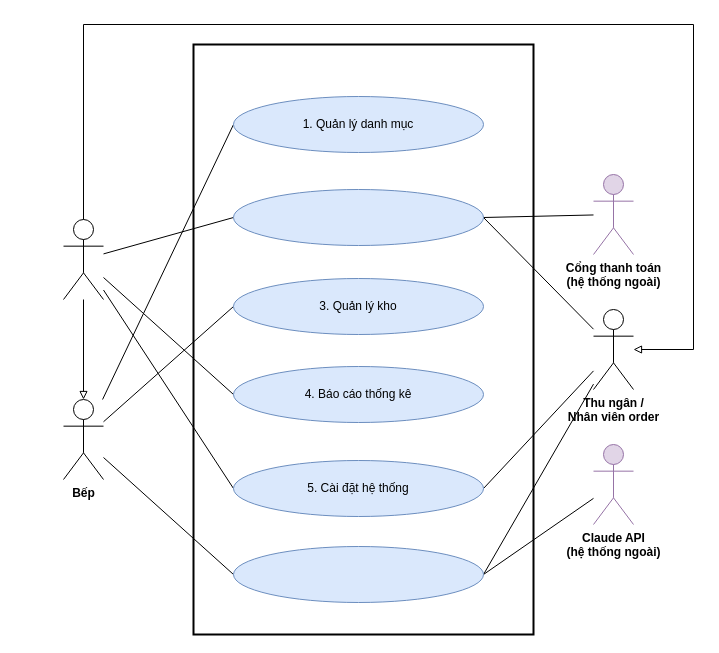
Some shapes in this 719 by 653 pixel diagram are drawn without their labels. Each missing label, with the box of its shape:
2. Quản lý bán hàng: (232, 188, 484, 246)
6. AI Assistant: (232, 546, 484, 602)
HỆ THỐNG QUẢN LÝ NHÀ HÀNG TÍCH HỢP AI: (192, 43, 534, 635)
Quản lý: (62, 218, 104, 300)
